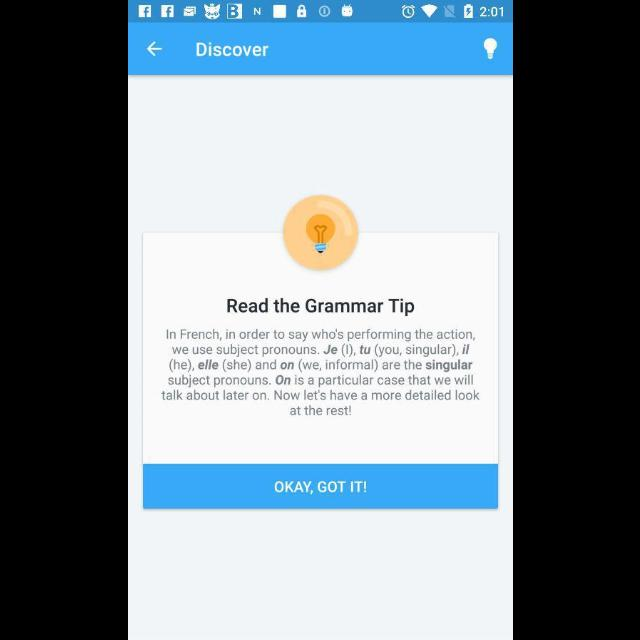icon: (146, 42, 162, 56)
image: (282, 195, 358, 271), (482, 38, 496, 60)
panel: (142, 232, 498, 510)
text: (160, 328, 480, 417), (226, 298, 414, 318), (196, 42, 268, 58)
textbutton: (143, 464, 497, 508)
toolbar: (128, 23, 512, 75)
uppertaskbar: (128, 1, 512, 23)
